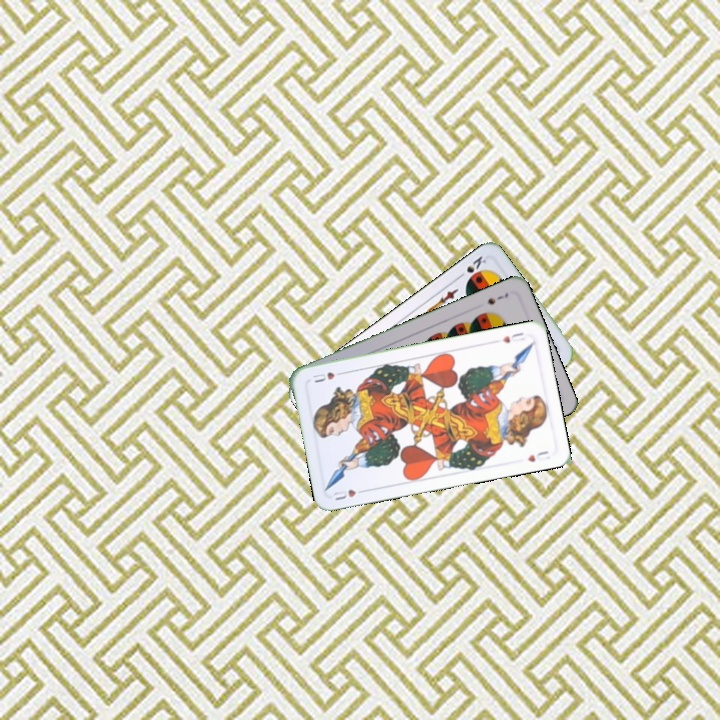HU: (329, 485, 369, 503), (498, 328, 527, 346)
S7: (483, 289, 511, 307)
SK: (453, 252, 489, 281)
